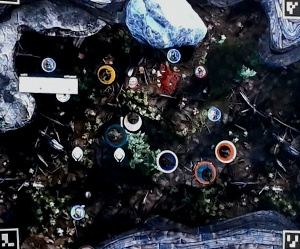blue: (154, 151, 177, 174)
brown_turquoise: (105, 124, 127, 147)
giant_red_octopus: (157, 62, 183, 92)
light_blue_orange: (194, 160, 217, 183)
white: (121, 110, 144, 133)
yellow_night_blue: (95, 61, 121, 87), (215, 140, 238, 163)
